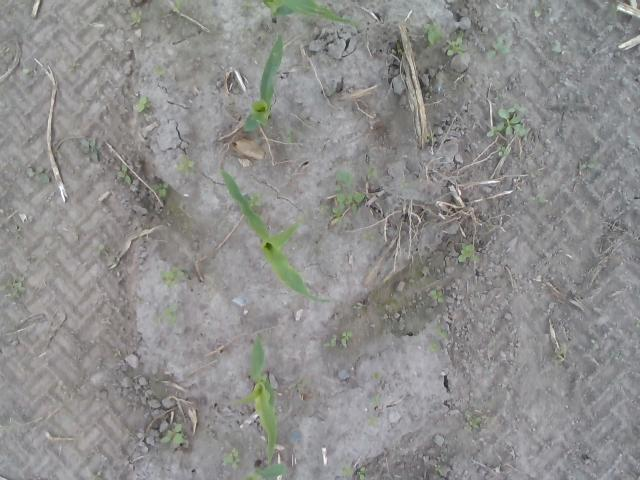Maize: (218, 166, 340, 306), (238, 332, 278, 462), (244, 32, 284, 132), (258, 0, 359, 32), (244, 463, 288, 480)
Weeds: (319, 168, 367, 224), (486, 102, 530, 138), (321, 330, 352, 352), (154, 302, 178, 328), (160, 423, 187, 446), (423, 20, 444, 49), (160, 265, 184, 290), (485, 35, 511, 58), (222, 446, 242, 472), (79, 138, 100, 162), (26, 166, 50, 185), (444, 36, 466, 56), (458, 242, 480, 262), (463, 410, 481, 433), (7, 278, 26, 298), (174, 154, 193, 174), (129, 7, 151, 24), (133, 94, 151, 113), (246, 190, 264, 208), (116, 164, 132, 184), (150, 183, 168, 200), (428, 288, 444, 304), (528, 193, 546, 205), (580, 160, 598, 172), (339, 463, 354, 477), (426, 339, 440, 353), (551, 38, 563, 54), (367, 414, 380, 428), (432, 325, 448, 336), (608, 350, 624, 361), (360, 231, 376, 241), (590, 336, 600, 352), (153, 64, 165, 77), (96, 240, 105, 256), (371, 392, 381, 406), (425, 132, 436, 144), (368, 165, 377, 179), (496, 146, 508, 156), (358, 466, 366, 480), (288, 383, 302, 391), (433, 464, 444, 474), (175, 0, 182, 15), (400, 177, 408, 190), (288, 128, 294, 144), (243, 0, 254, 7)
